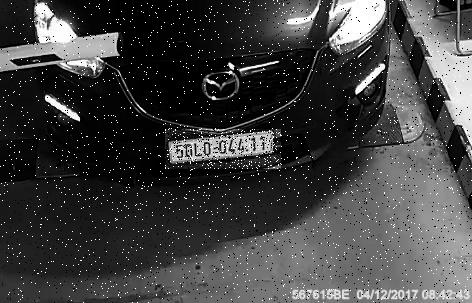License-plate: (167, 130, 284, 170)
